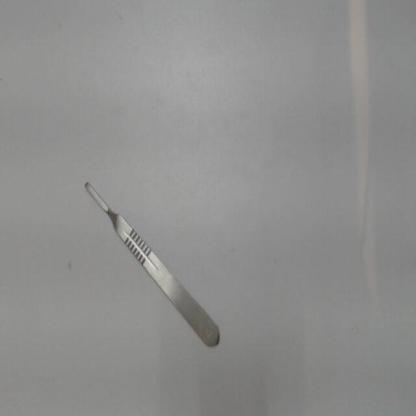No.4 BP Handle: (81, 176, 225, 350)
